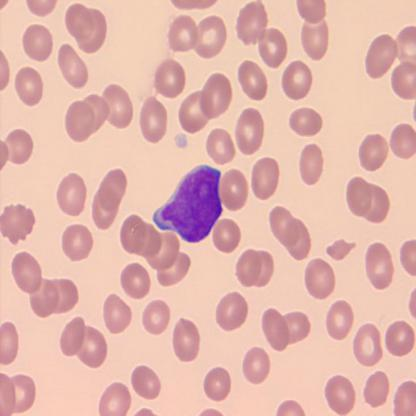Blast: (152, 161, 226, 246)
